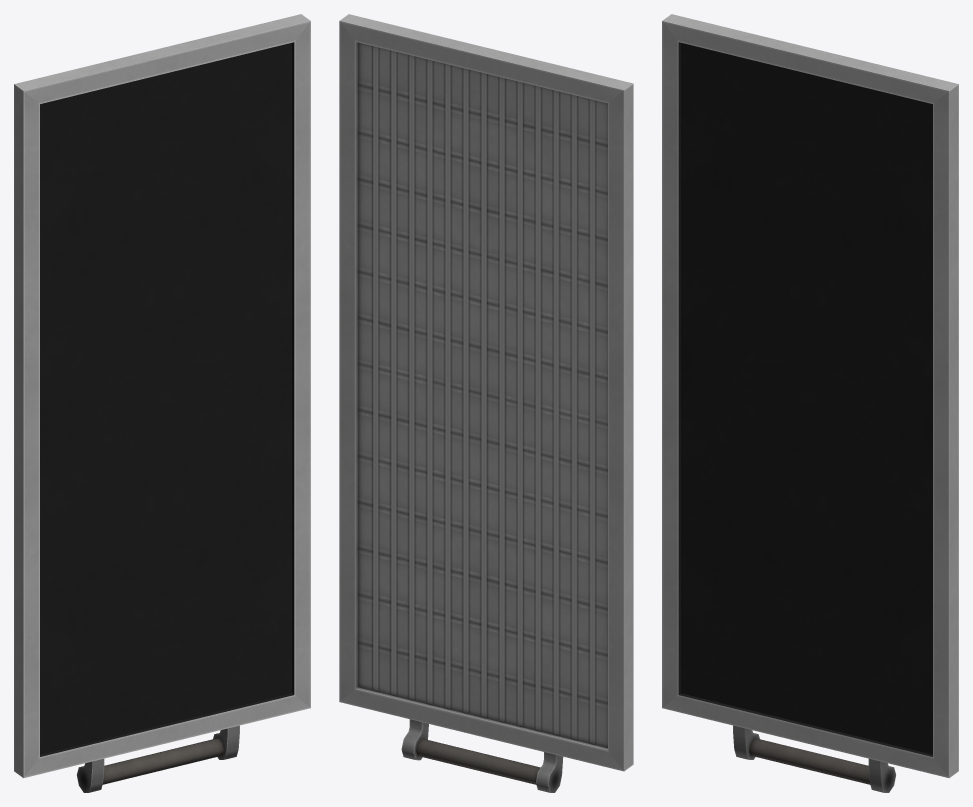
File: radartop.obj
3 views of the same model, side by side, from view 1: azimuth 30°, elevation 25°; view 2: azimuth 150°, elevation 25°; view 3: azimuth 330°, elevation 25° (orthographic).
Parts seen in each view (by area): view 1: 1; view 2: 1; view 3: 1.
Part boxes in pixels (left/top/right/bottom): 1: left=14, top=14, right=310, bottom=792; 1: left=339, top=14, right=633, bottom=792; 1: left=662, top=14, right=958, bottom=792.
Size of the model in its own units: 0.875 by 2.11 by 0.0875.
1 material, 1 textured.
